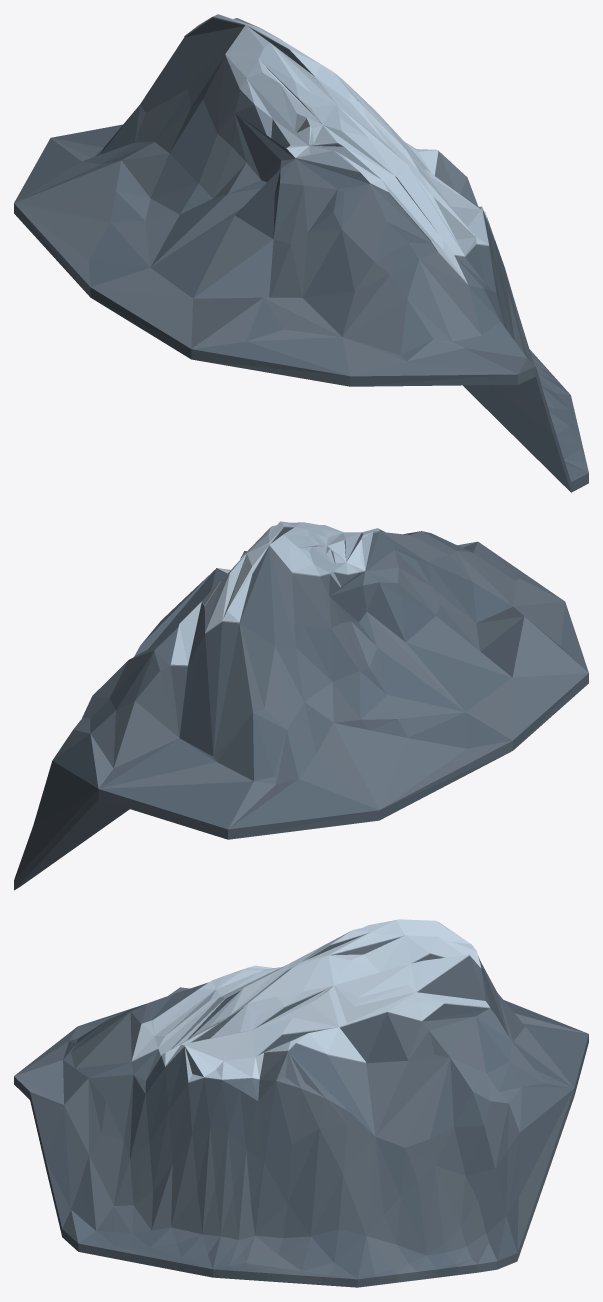
File: massif_cirque_wall_cirque54v2.glb
3 views of the same model, one above another, from view 1: azimuth 30°, elevation 25°; view 2: azimuth 150°, elevation 25°; view 3: azimuth 270°, elevation 25° (orthographic). The views are drawn at different scales.
Parts seen in each view (by area): view 1: remodeled_cirque_body, snow_gully_b, snow_gully_a, upper_snow_basin; view 2: remodeled_cirque_body, snow_gully_b, snow_gully_a, upper_snow_basin; view 3: remodeled_cirque_body, snow_gully_a, snow_gully_b.
Part boxes in pixels (x1,y1,x2,y2): remodeled_cirque_body: (14,18,588,492); snow_gully_b: (225,43,476,284); snow_gully_a: (184,15,494,246); upper_snow_basin: (212,14,289,57); remodeled_cirque_body: (14,527,588,890); snow_gully_b: (280,521,385,587); snow_gully_a: (170,521,301,666); upper_snow_basin: (252,527,295,573); remodeled_cirque_body: (14,934,588,1287); snow_gully_a: (161,919,490,1082); snow_gully_b: (131,931,350,1061).
Bounding box in the file's own units: 454 × 346 × 651.
